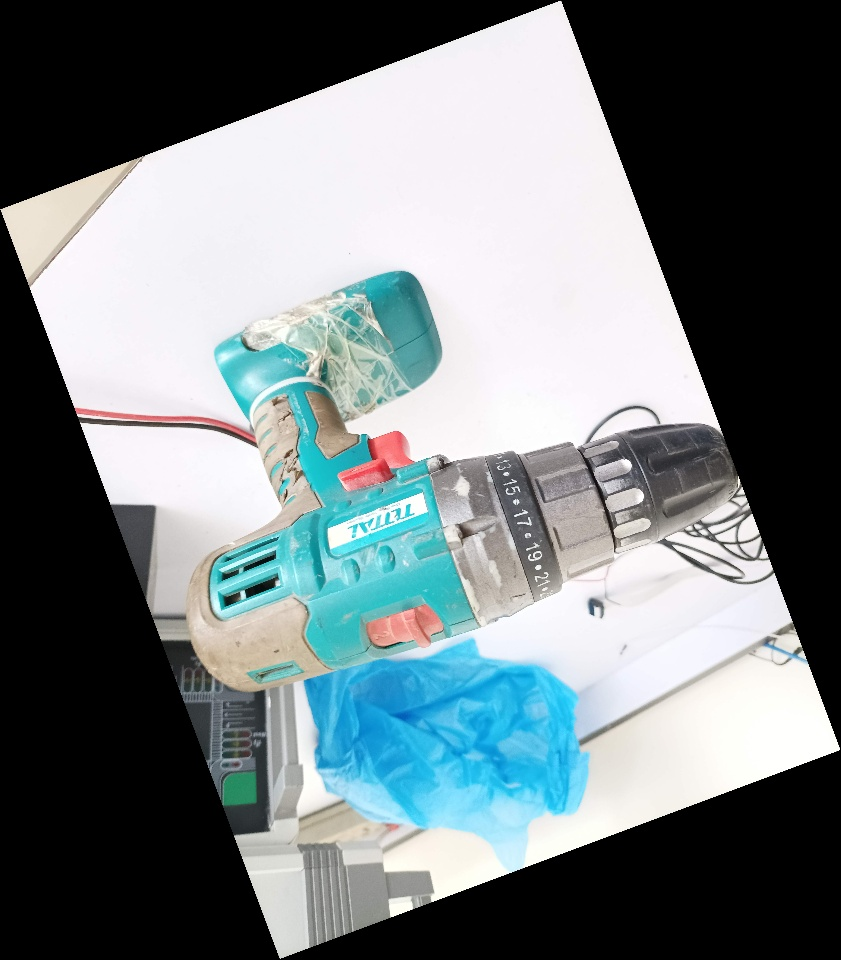driller: (180, 266, 742, 697)
